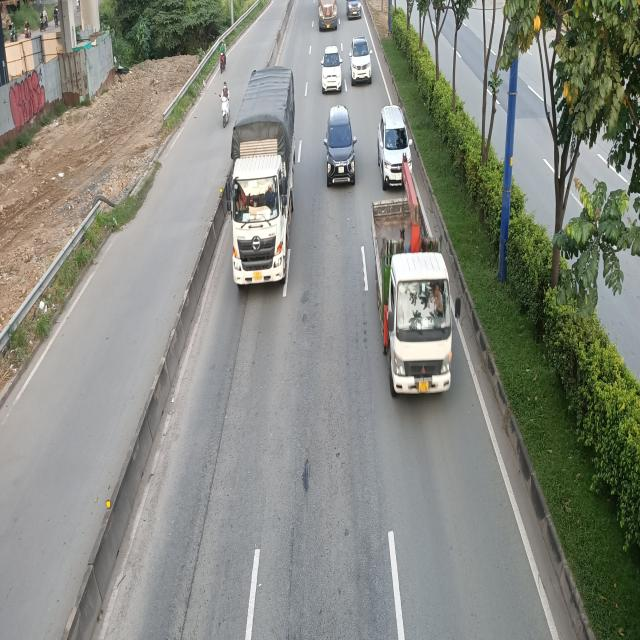car: (379, 106, 413, 192), (326, 105, 358, 187), (349, 37, 374, 87), (321, 47, 343, 94)
container: (316, 0, 338, 28)
truck: (373, 202, 464, 404), (221, 70, 294, 293)
